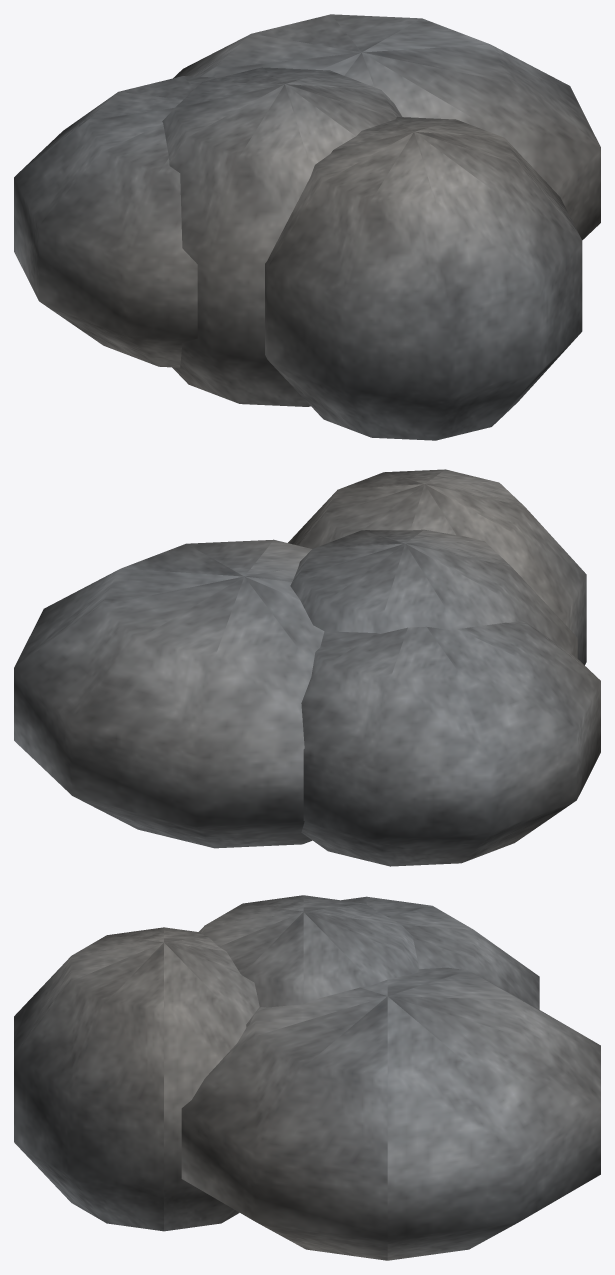
File: cushion_l0.gltf
3 views of the same model, one above another, from view 1: azimuth 30°, elevation 25°; view 2: azimuth 150°, elevation 25°; view 3: azimuth 270°, elevation 25° (orthographic). The views are drawn at different scales.
Visible parts, largest first — view 1: cushion_l0; view 2: cushion_l0; view 3: cushion_l0.
Part boxes in pixels (<box>): cushion_l0: <box>14,14,600,440</box>; cushion_l0: <box>14,469,600,866</box>; cushion_l0: <box>14,895,600,1260</box>.
Bounding box in the file's own units: 1.3 × 0.7035 × 1.31.
Materials: 1 (1 with a texture image).
